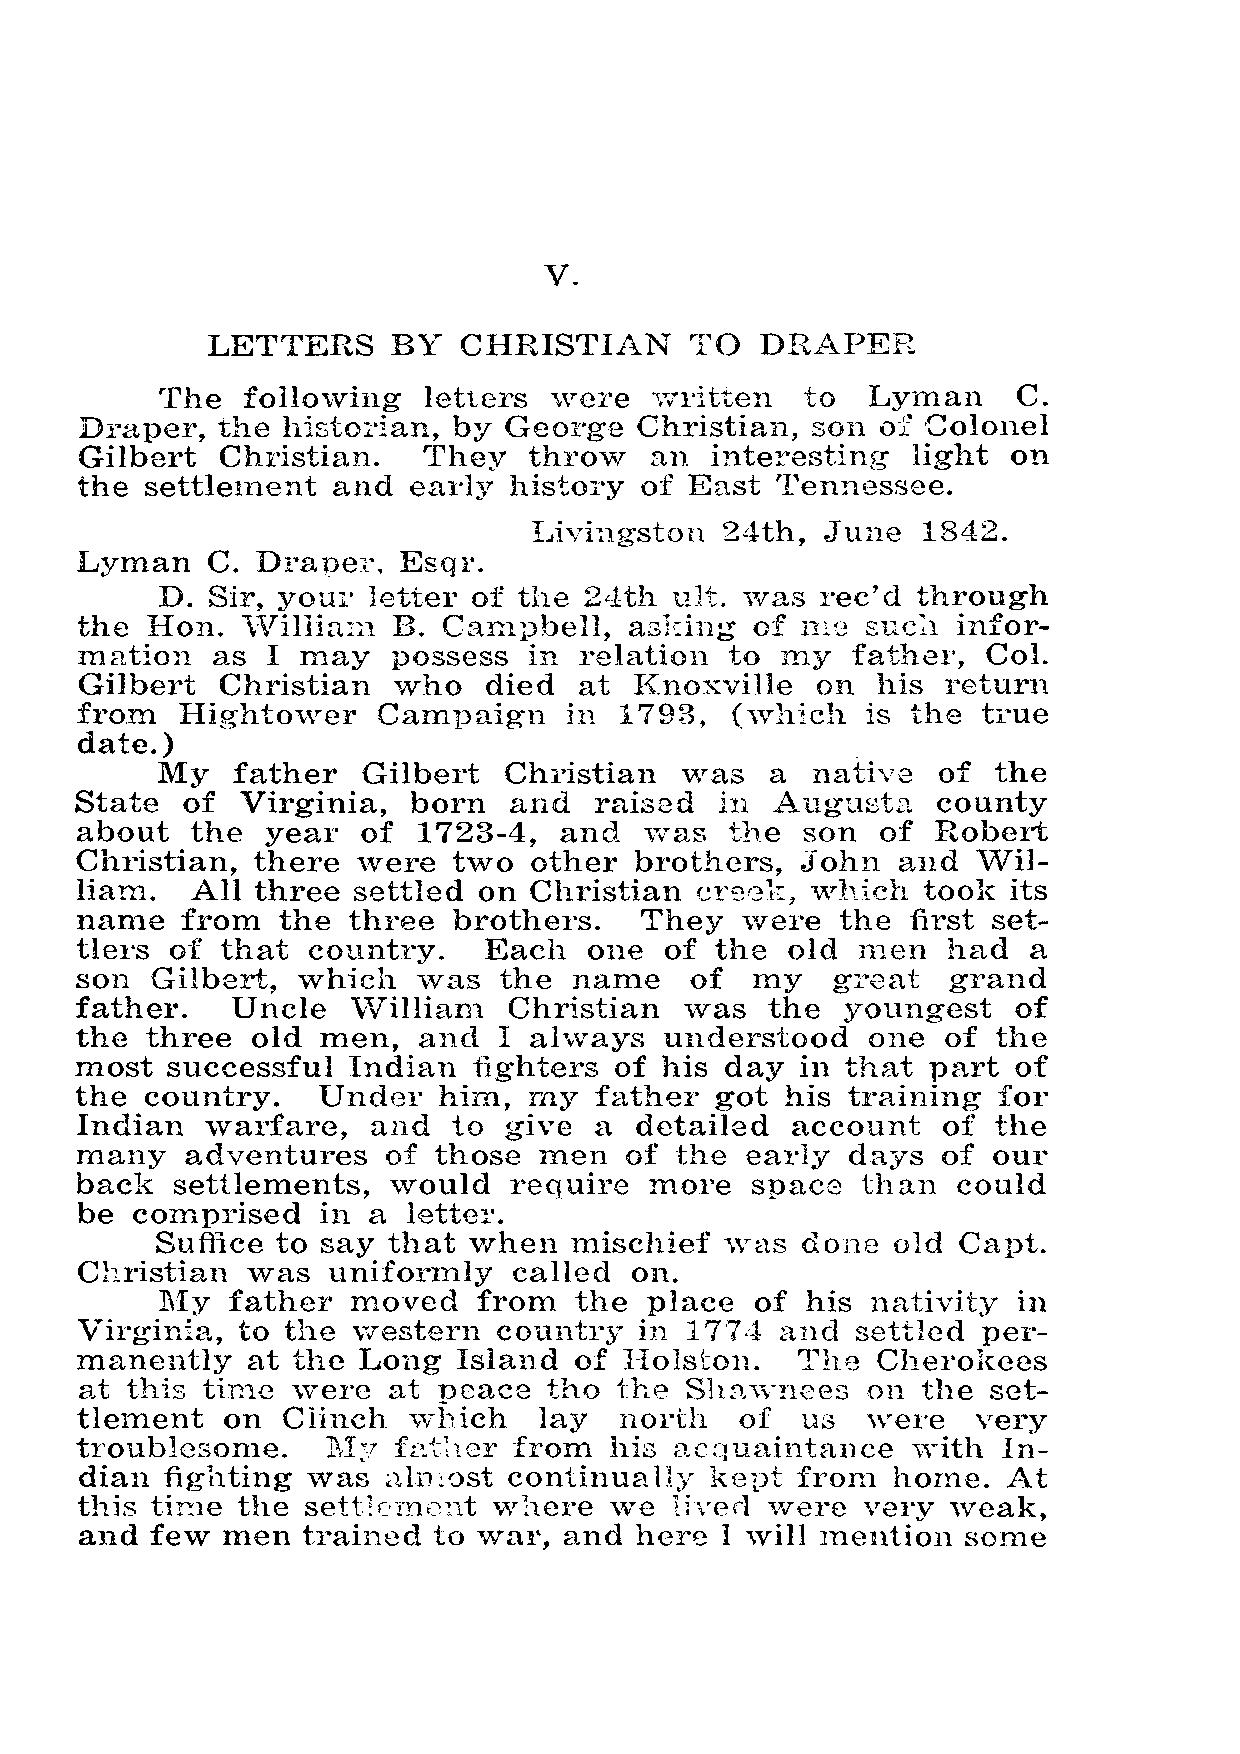chapter: (203, 262, 915, 361)
content: (71, 380, 1051, 1551)
